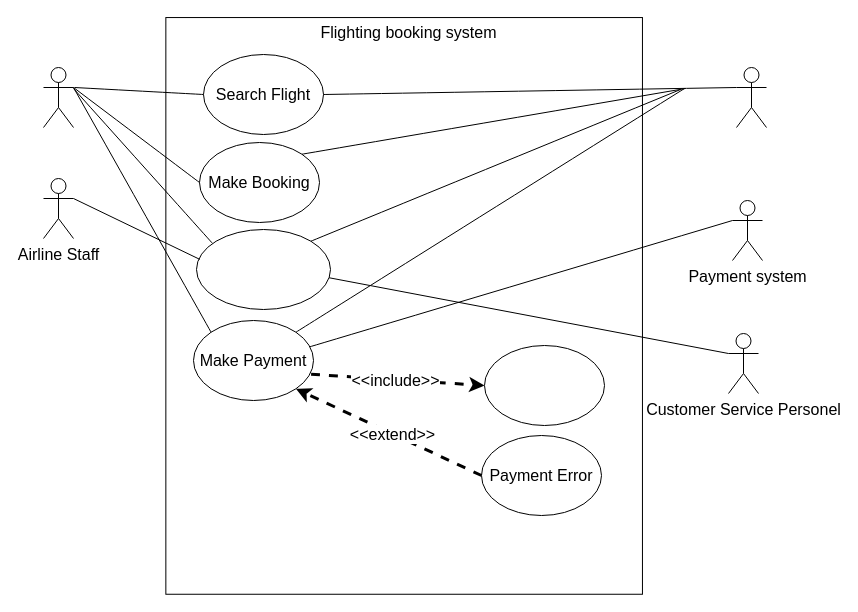
The diagram is 858 pixels wide and 612 high, and some of its shapes have lost their labels. Here are the shapes that lost their labels. From the top down, the centre of each, then its label:
At point (58, 97): "Customer".
At point (751, 97): "Web interface system".
At point (263, 269): "Make updates/changes".
At point (544, 385): "Verify Payment".
